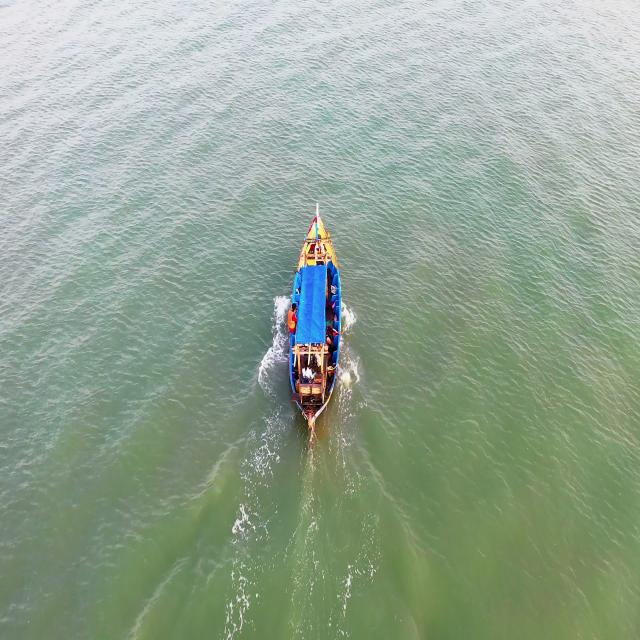ship: (286, 200, 344, 427)
